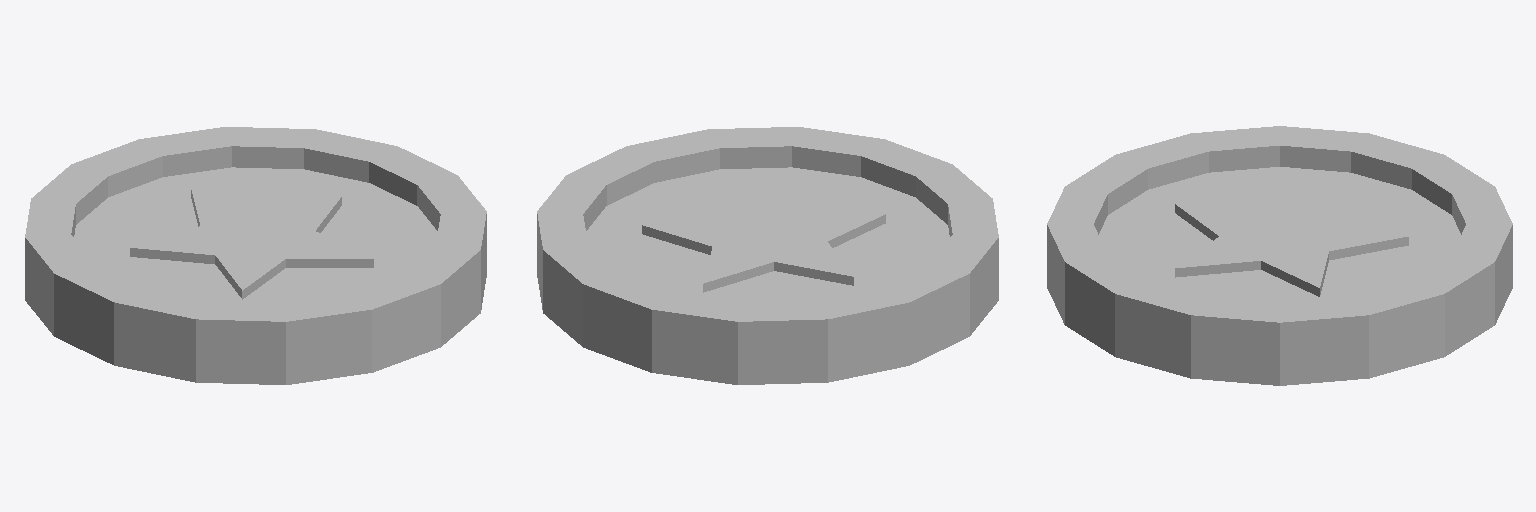
File: coin-star.obj
The picture shows the model from 3 angles: view 1: azimuth 30°, elevation 25°; view 2: azimuth 150°, elevation 25°; view 3: azimuth 270°, elevation 25°; orthographic projection.
Parts seen in each view (by area): view 1: coin_Cylinder; view 2: coin_Cylinder; view 3: coin_Cylinder.
Part boxes in pixels (left/top/right/bottom): coin_Cylinder: left=25, top=127, right=486, bottom=384; coin_Cylinder: left=537, top=127, right=998, bottom=384; coin_Cylinder: left=1047, top=126, right=1512, bottom=385.
Bounding box in the file's own units: 20 × 3 × 20.